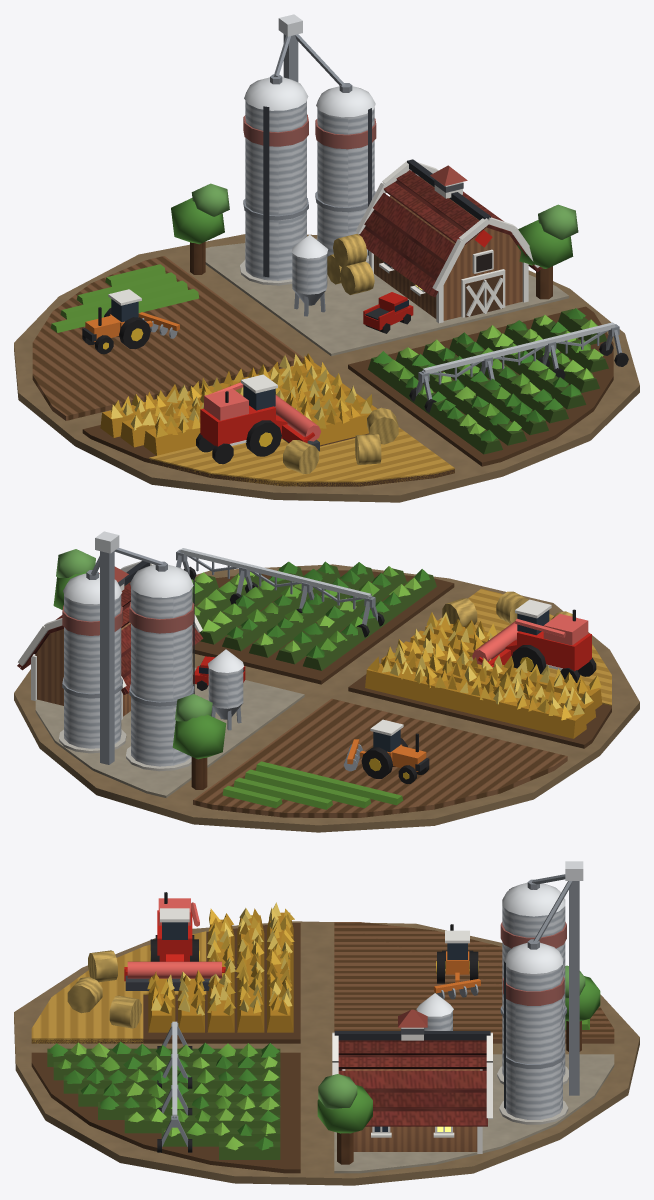
The model's file is farm_modern_red.glb.
The picture shows the model from 3 angles, top to bottom: view 1: azimuth 30°, elevation 25°; view 2: azimuth 150°, elevation 25°; view 3: azimuth 270°, elevation 25°; orthographic projection.
Visible parts, largest first — view 1: farm_modern_red; view 2: farm_modern_red; view 3: farm_modern_red.
Part boxes in pixels (left/top/right/bottom): farm_modern_red: left=14, top=14, right=639, bottom=502; farm_modern_red: left=14, top=531, right=639, bottom=832; farm_modern_red: left=14, top=861, right=639, bottom=1185.
Bounding box in the file's own units: 1.36 × 0.585 × 1.4.
2 materials, 1 textured.
